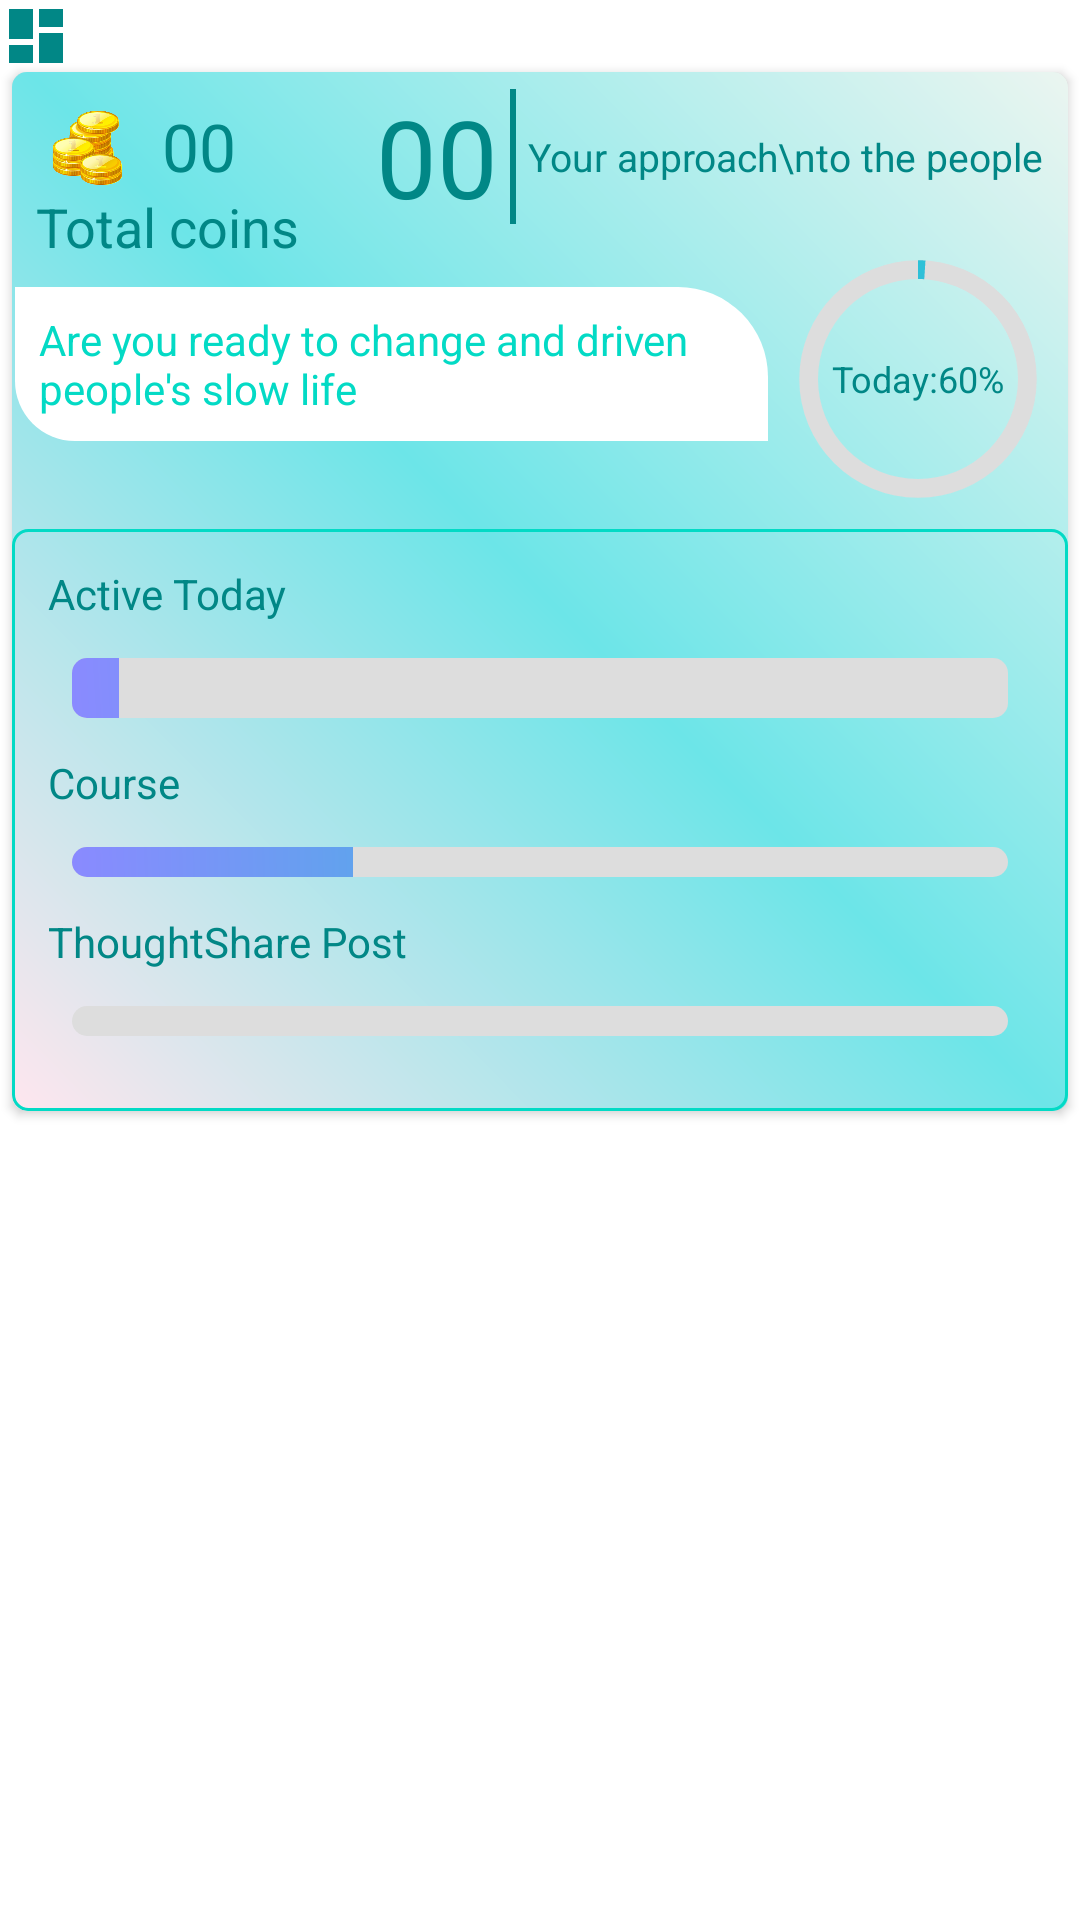

Locate icon controls on the screen. Image size 1080 x 1920, boxes as (x1, y1, x2, y2).
coinss: (53, 111, 122, 185)
dashboard: (9, 9, 63, 63)
